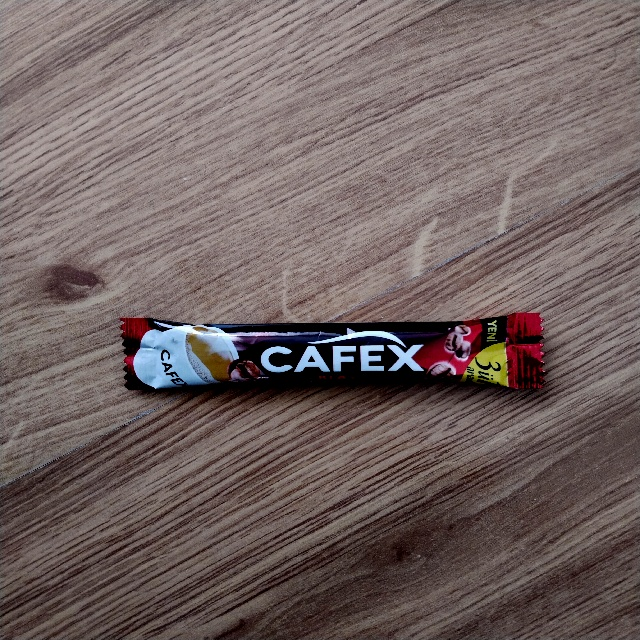cafex_kahve: (121, 314, 544, 390)
